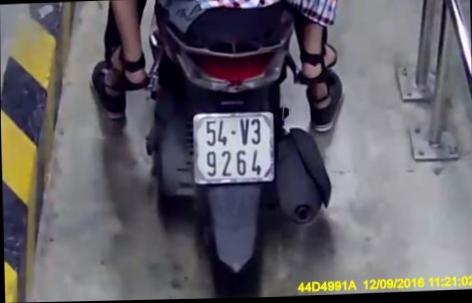LP: (190, 110, 275, 186)
